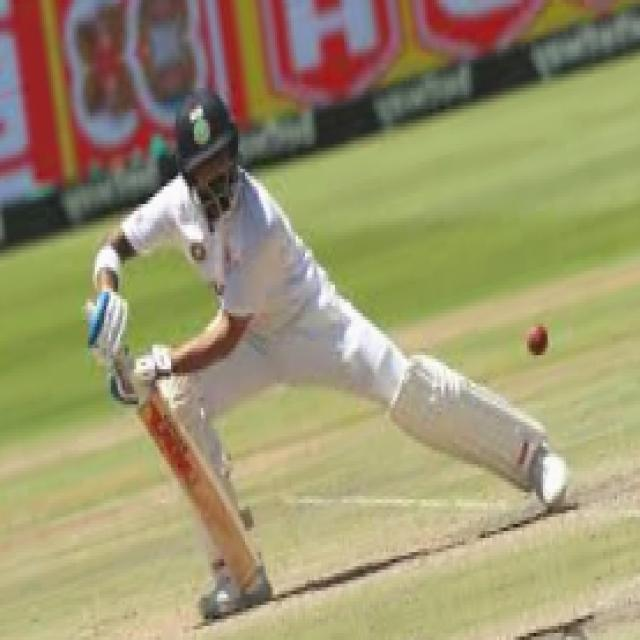bat: (135, 386, 268, 603)
toe: (222, 568, 275, 592)
